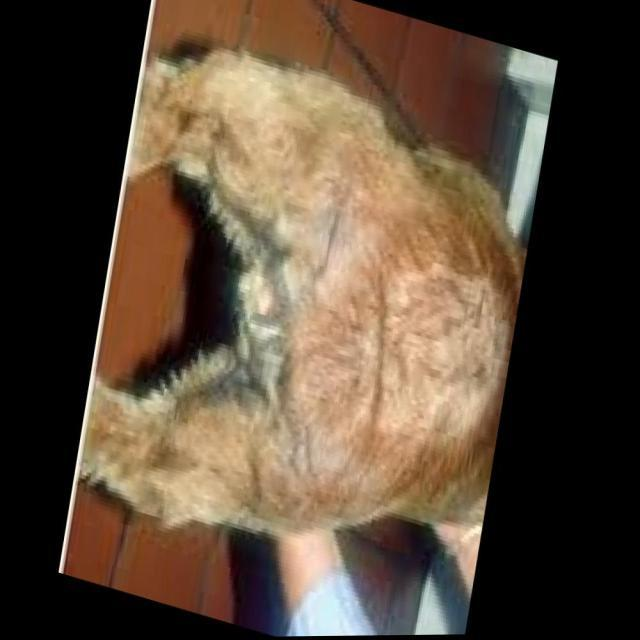allergic dermatitis: (236, 215, 298, 430)
